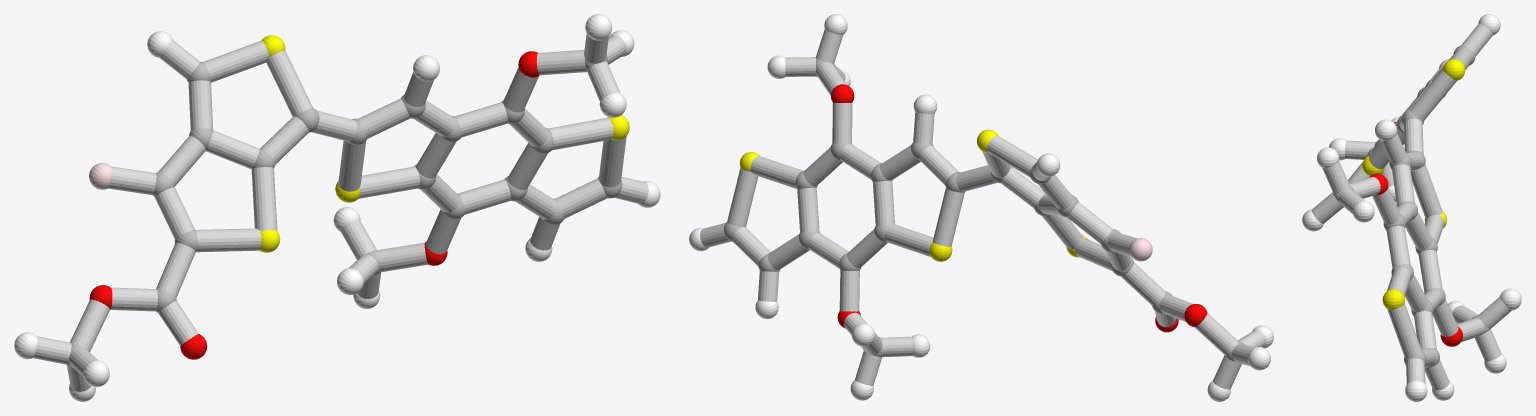
Rendered from Dimethoxy_Benzodithiophene_Phi_30_Theta_50_Methylcarbonyl_3_Fluoro_Thienothiophene.glb.
3 views of the same model, side by side, from view 1: azimuth 30°, elevation 25°; view 2: azimuth 150°, elevation 25°; view 3: azimuth 270°, elevation 25° (orthographic). The views are drawn at different scales.
Visible parts, largest first — view 1: grp15205, grp8689, grp1, grp13395, grp7241; view 2: grp15205, grp8689, grp1, grp13395, grp7241; view 3: grp15205, grp8689, grp1, grp7241, grp13395.
Part boxes in pixels (<box>): grp15205: <box>33,34,648,391</box>; grp8689: <box>14,14,660,401</box>; grp1: <box>67,55,622,367</box>; grp13395: <box>89,51,539,359</box>; grp7241: <box>260,35,629,252</box>; grp15205: <box>700,29,1266,389</box>; grp8689: <box>689,14,1273,401</box>; grp1: <box>724,59,1244,361</box>; grp13395: <box>831,84,1207,332</box>; grp7241: <box>739,129,1087,261</box>; grp15205: <box>1311,23,1511,390</box>; grp8689: <box>1302,14,1521,401</box>; grp1: <box>1333,45,1489,367</box>; grp7241: <box>1362,59,1465,309</box>; grp13395: <box>1369,122,1462,346</box>.
Bounding box in the file's own units: 16.74 × 8.19 × 5.88.
